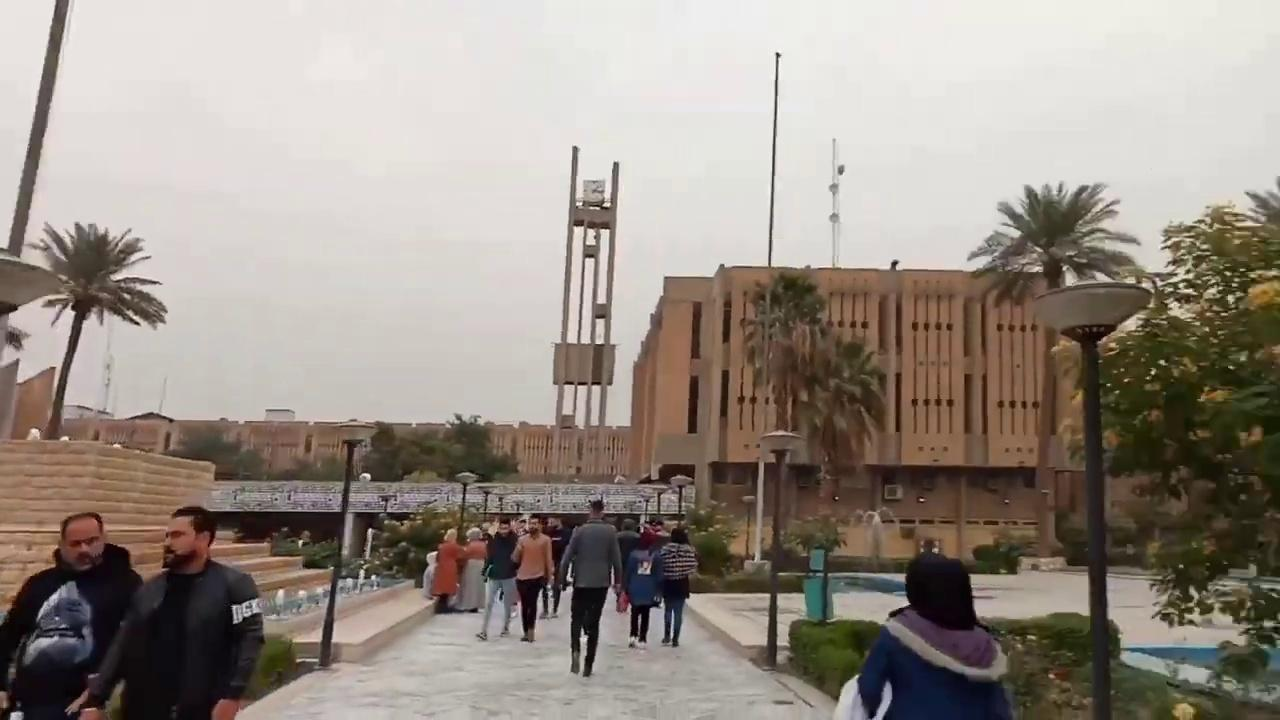fountain: (783, 552, 1278, 718), (263, 565, 407, 619), (863, 509, 886, 564)
person: (65, 505, 265, 719), (835, 551, 1015, 719), (0, 511, 144, 719), (556, 498, 624, 677)
tree: (1076, 175, 1279, 686), (965, 179, 1141, 559), (737, 269, 886, 571), (20, 219, 167, 438), (0, 0, 73, 356), (965, 178, 1141, 298), (355, 411, 519, 482), (359, 500, 467, 585), (0, 244, 63, 353), (435, 412, 516, 482), (681, 504, 738, 578)
